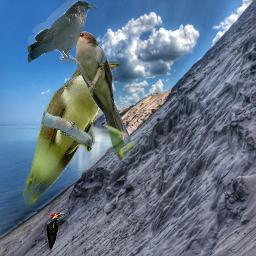Crow: (28, 0, 98, 64)
Cuckoo: (21, 60, 120, 205), (64, 31, 134, 164)
Woodpecker: (44, 212, 69, 251)
